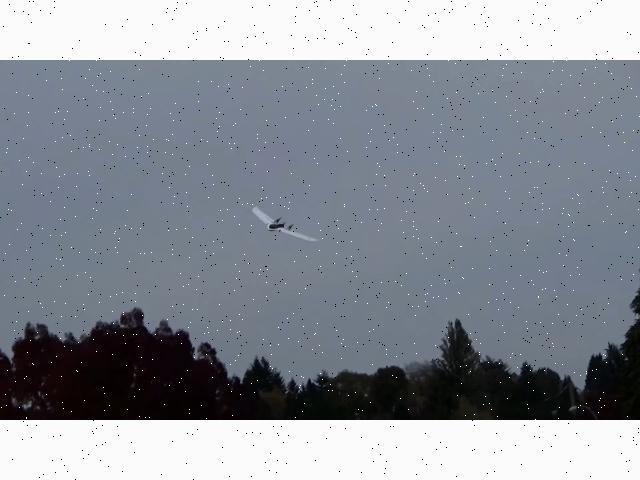Anti-Drone: (252, 206, 318, 240)
